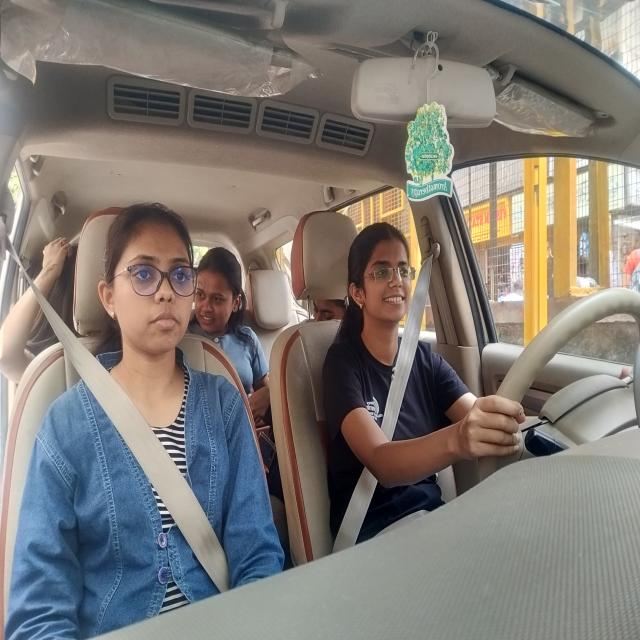person: (101, 195, 196, 362), (350, 215, 414, 344), (198, 239, 248, 357), (312, 296, 344, 321)
